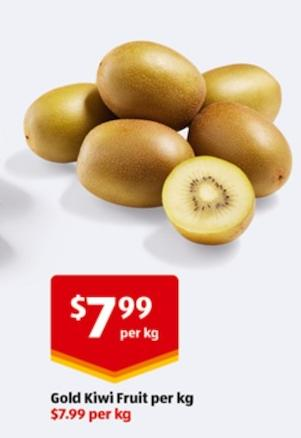description_block: (26, 378, 207, 410)
price_main: (37, 274, 199, 387)
product_image_block: (4, 16, 301, 255)
unit_price_block: (38, 405, 145, 427)
